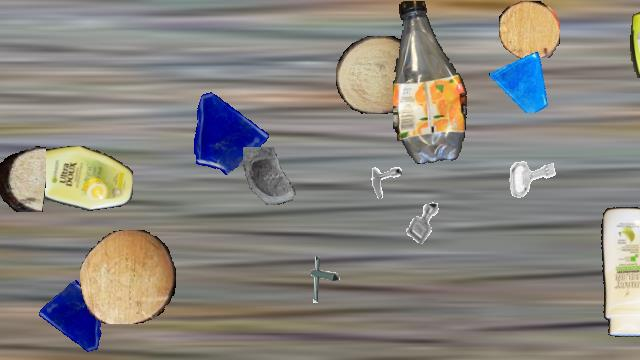glass: (181, 85, 271, 175), (37, 280, 115, 358), (237, 147, 305, 215), (489, 50, 551, 112)
metal: (501, 148, 561, 208), (395, 195, 451, 251), (296, 253, 348, 305), (360, 156, 402, 198), (0, 95, 3, 157)
plastic: (393, 1, 469, 163), (20, 146, 132, 212), (594, 207, 640, 337), (629, 1, 640, 163)
wood: (80, 230, 176, 324), (336, 36, 418, 114), (499, 1, 559, 59), (0, 145, 45, 211)
